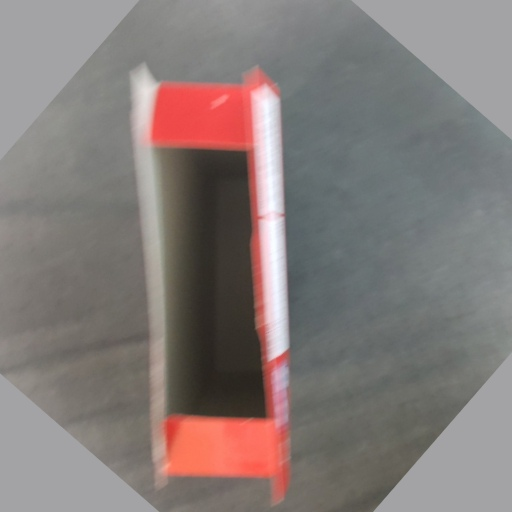Paper_0: (125, 57, 318, 512)
